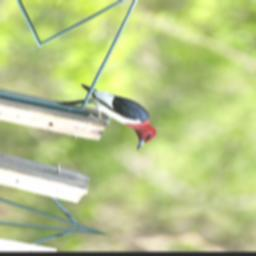Woodpecker: (58, 83, 171, 153)
